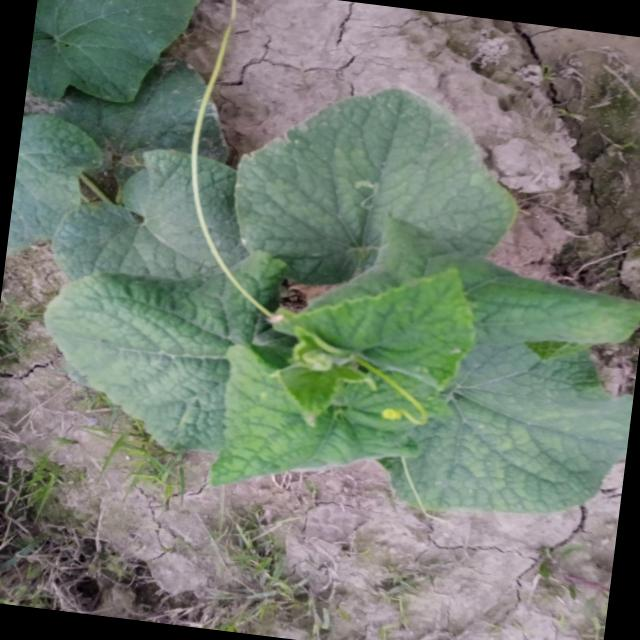cucumber_healthy: (204, 238, 482, 525), (217, 66, 534, 317), (381, 252, 640, 540), (21, 215, 292, 469), (24, 0, 206, 121)
